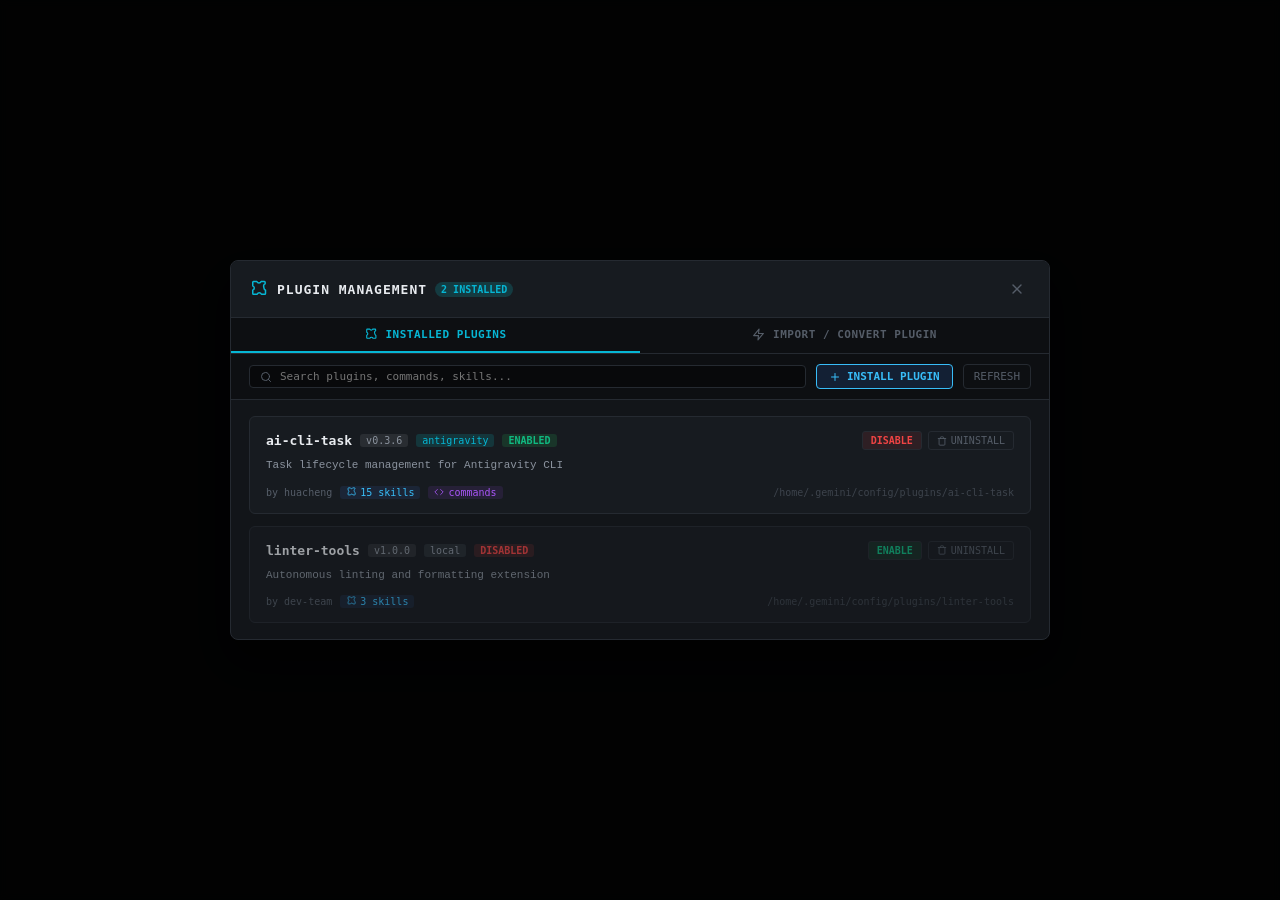
Test case: PluginsModal › filters plugins by search query
Check: the text "ai-cli-task" is shown, box [266,433,352,448]
In the field with placeholder "Search plugins, commands, skills...": (537, 377) [280,370,795,383], type "linter"
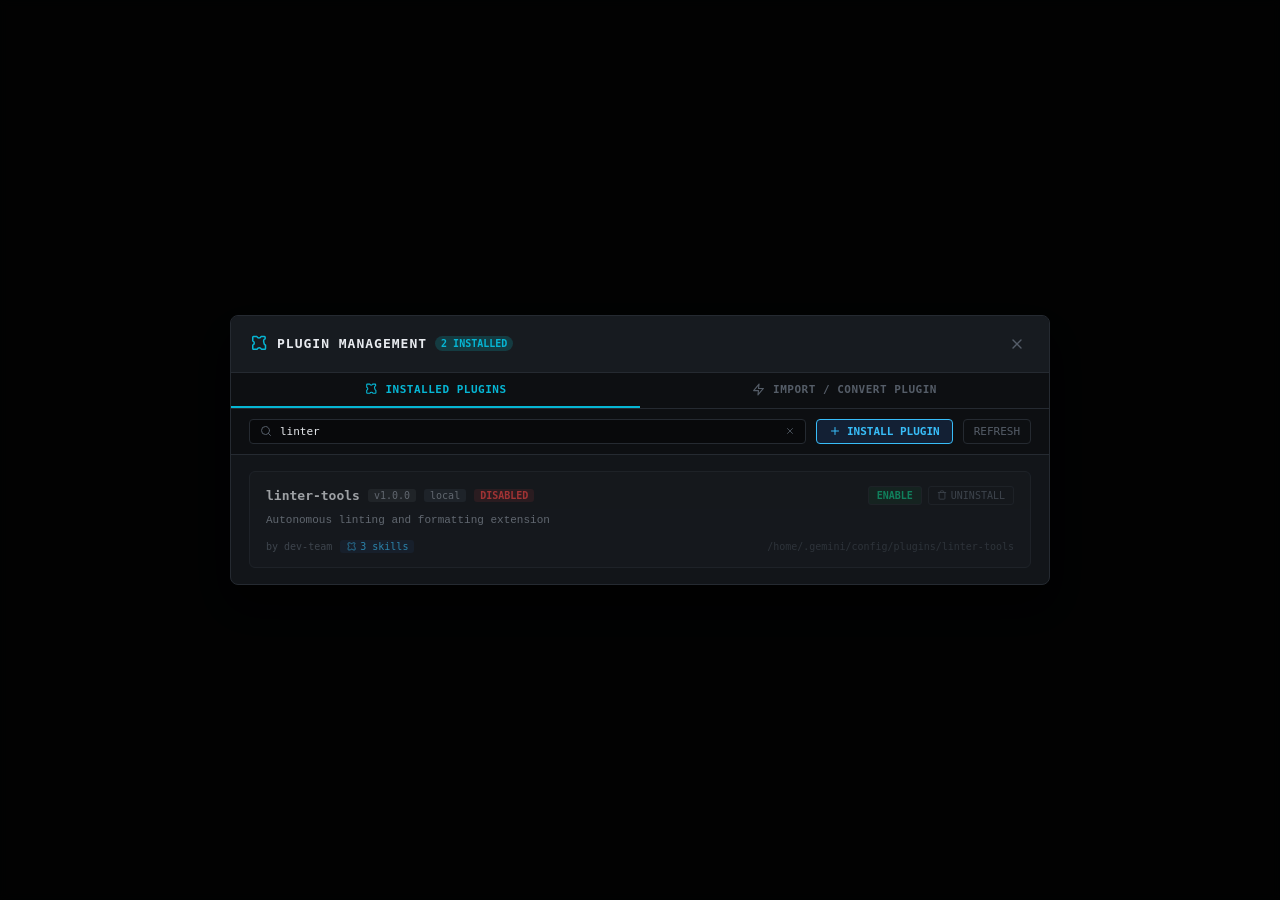
Check: the text "linter-tools" is shown, box [266,488,360,503]
Check: the text "ai-cli-task" is gone
